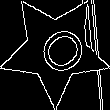O_SW: (23, 17, 87, 82)
